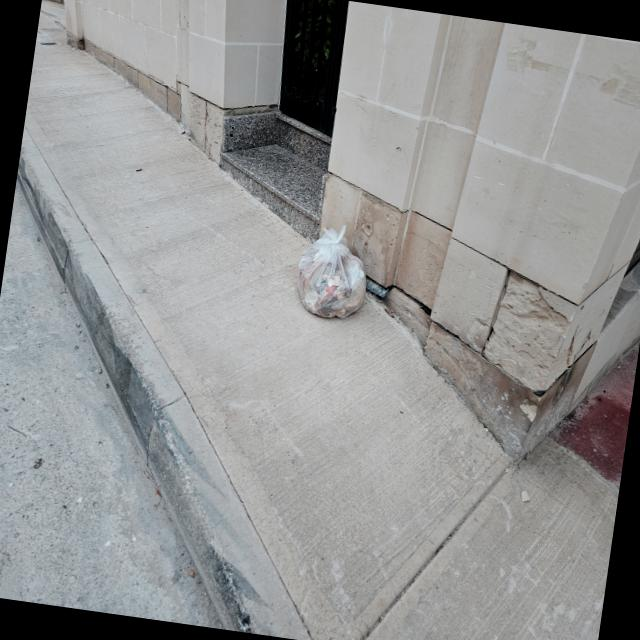white_bag: (288, 218, 378, 326)
